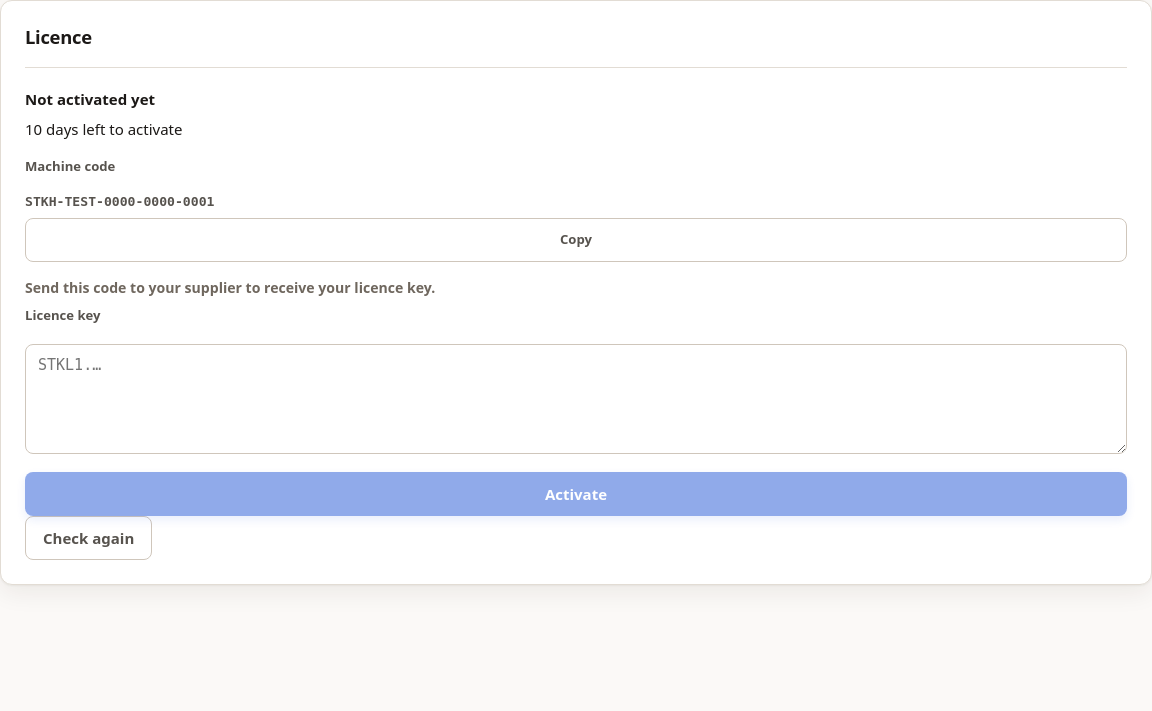
Test: WS-K-7-B LicenceSettingsCard › activation success refreshes and shows the success banner
The image size is (1152, 711).
Type "STKL1.abc.def" into the text box with test id "licence-key-input" at {"x": 576, "y": 399}, box [25, 344, 1127, 454]
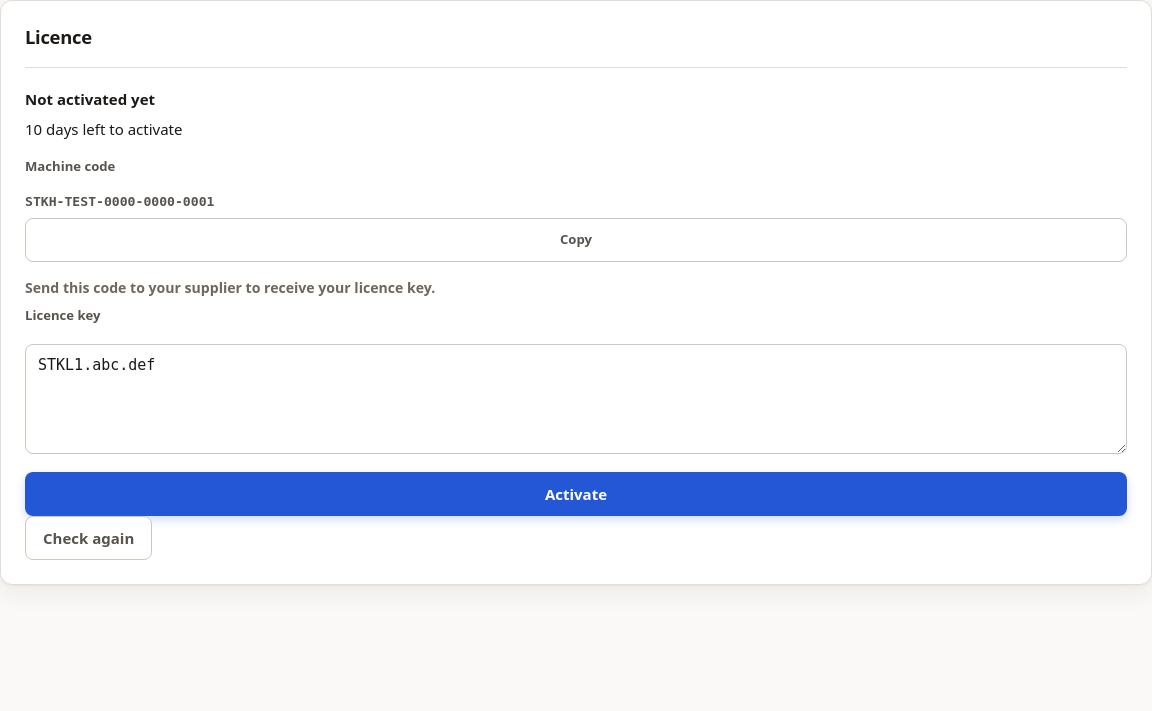
Click the button with test id "licence-activate" at {"x": 576, "y": 494}, box [25, 472, 1127, 516]
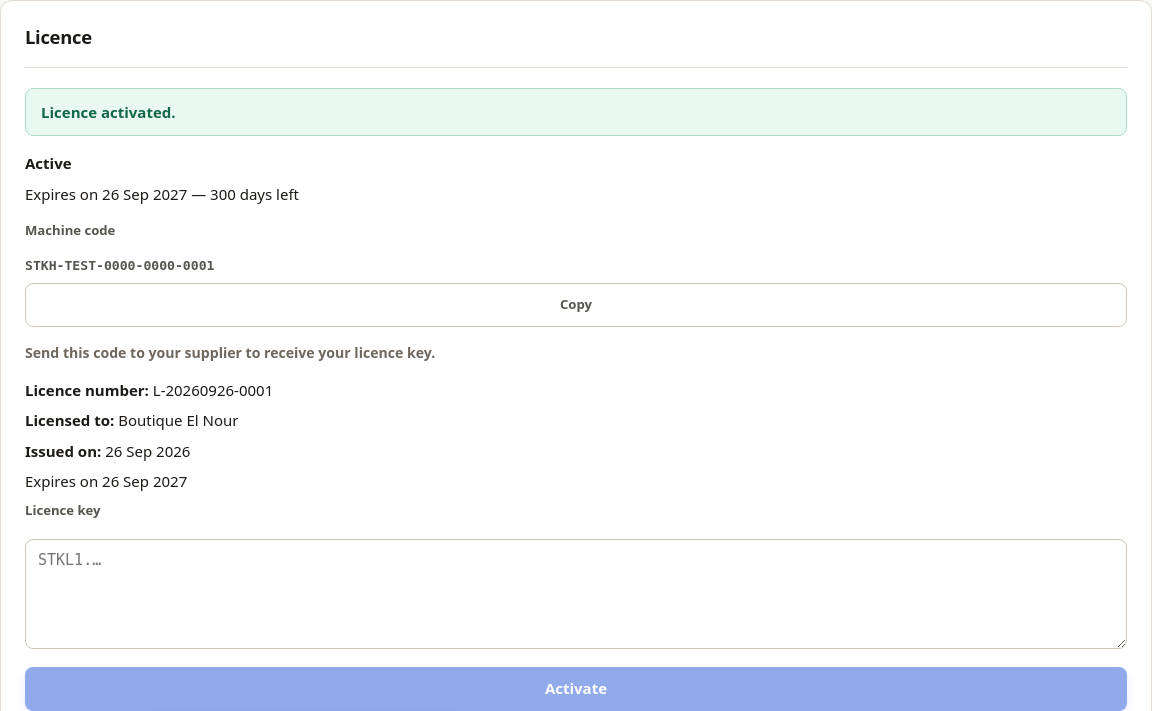
Check: the message "Licence activated." is shown, box [25, 88, 1127, 136]
Check: the message with test id "licence-card-banner" reads "Licence activated.", box [41, 102, 176, 122]
Check: the text box with test id "licence-key-input" is empty, box [25, 539, 1127, 649]
